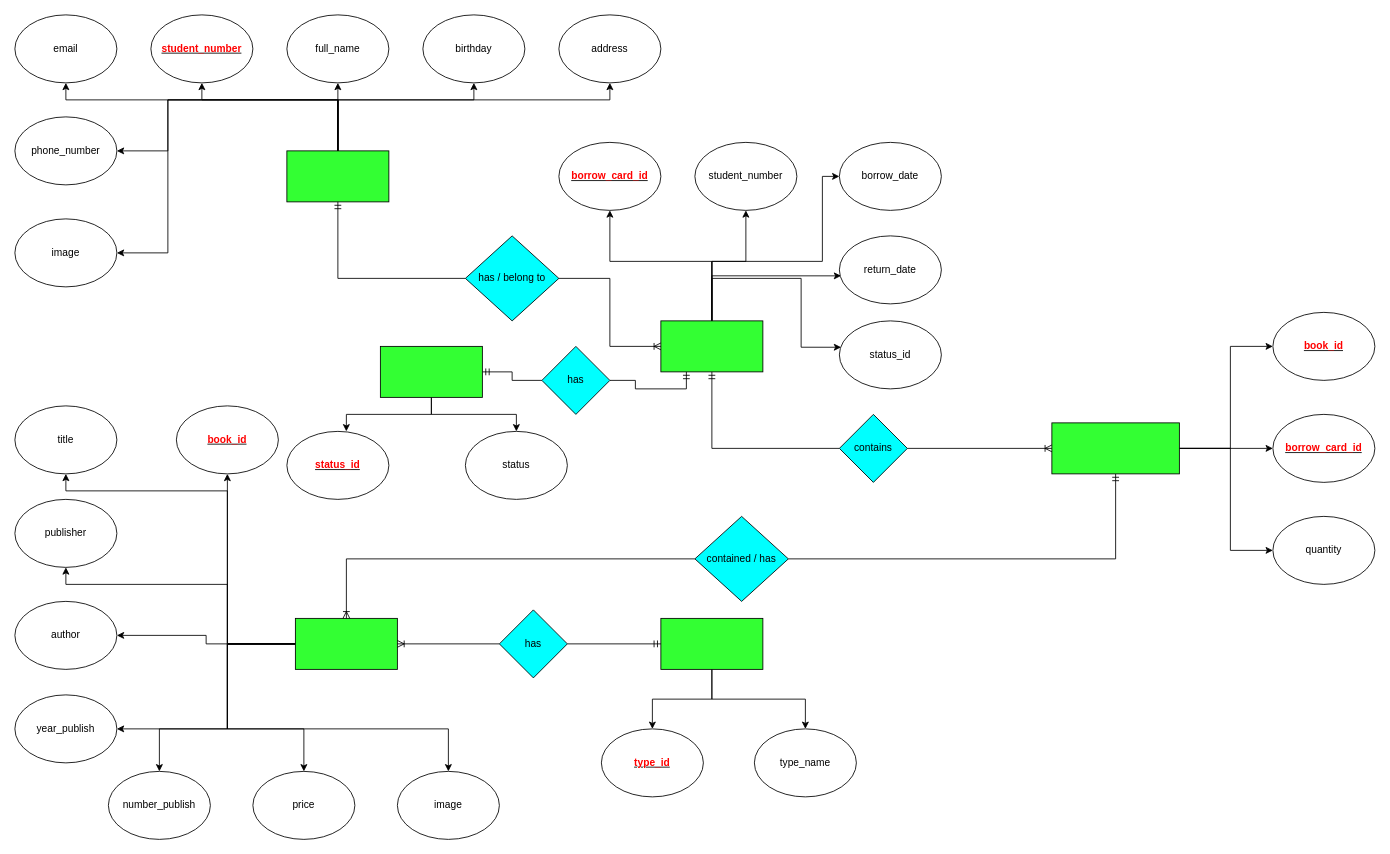
Some shapes in this 1390 by 854 pixel diagram are drawn without their labels. The shapes that lost their labels are listed below. From the top down, each one's centre as x and y in pixels, then its label:
At point 337,176: "student_card".
At point 711,346: "borrow_card".
At point 431,371: "borrow_status".
At point 1115,448: "detailed_borrow_card".
At point 346,643: "book".
At point 711,643: "category".
